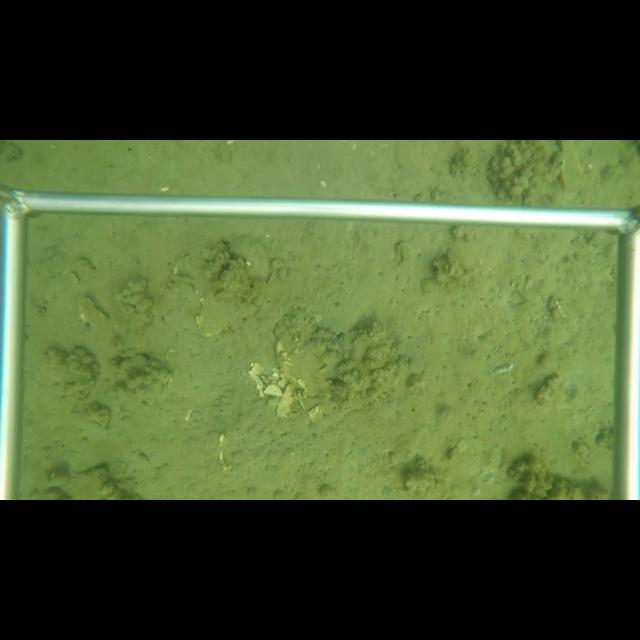Oyster-Closed: (196, 283, 244, 340), (228, 232, 271, 281)
